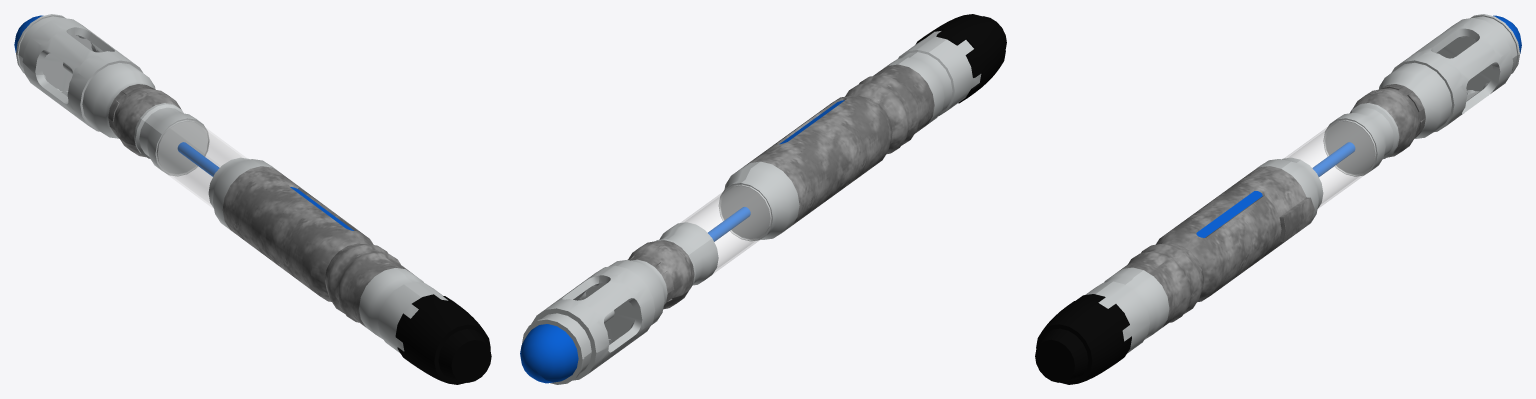
The picture shows the model from 3 angles, left to right: view 1: azimuth 30°, elevation 25°; view 2: azimuth 150°, elevation 25°; view 3: azimuth 330°, elevation 25°; orthographic projection.
Parts seen in each view (by area): view 1: Body5, Body4, Body3, Body2, Body1; view 2: Body5, Body4, Body2, Body3, Led, Body1; view 3: Body5, Body4, Body3, Body2, Body1.
Boxes of the visible parts, x1,y1,x2,y2 form: Body5: [16, 14, 448, 353]; Body4: [108, 84, 412, 327]; Body3: [395, 294, 491, 384]; Body2: [156, 119, 246, 208]; Body1: [177, 142, 353, 230]; Body5: [522, 31, 981, 384]; Body4: [627, 64, 934, 309]; Body2: [681, 184, 771, 273]; Body3: [915, 14, 1006, 103]; Led: [520, 324, 578, 383]; Body1: [708, 100, 844, 241]; Body5: [1085, 14, 1519, 353]; Body4: [1118, 84, 1425, 327]; Body3: [1035, 294, 1131, 384]; Body2: [1285, 119, 1376, 208]; Body1: [1196, 142, 1355, 237].
Size of the model in its own units: 0.0157 by 0.0146 by 0.17.
5 materials, 5 textured.
